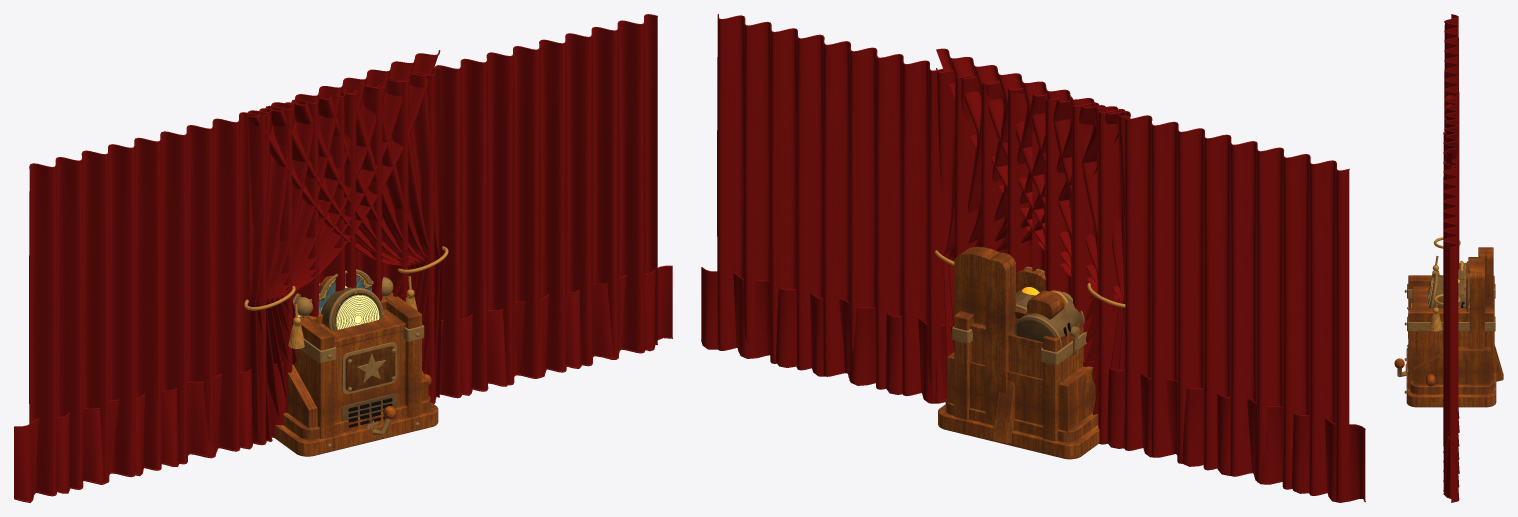
File: chapter5_approved_props.glb
3 views of the same model, side by side, from view 1: azimuth 30°, elevation 25°; view 2: azimuth 150°, elevation 25°; view 3: azimuth 270°, elevation 25° (orthographic). The views are drawn at different scales.
Visible parts, largest first — view 1: RightLeaf_velvet, LeftLeaf_velvet, Fabric_velvet (×3), Body_wood (×2), Body_brass, Body_darkwood, LampPanTilt_ivory, LampPanTilt_brass, LampPanTilt_bronze; view 2: LeftLeaf_velvet, RightLeaf_velvet, Fabric_velvet (×3), Body_wood (×4), LampPanTilt_bronze, Body_brass; view 3: Body_wood (×3), RightLeaf_velvet, LeftLeaf_velvet, Fabric_velvet (×2), Body_brass, LampPanTilt_bronze, Body_cord (×2), LampPanTilt_brass.
Part boxes in pixels (<box>): RightLeaf_velvet: <box>343,14,657,403</box>; LeftLeaf_velvet: <box>29,91,344,496</box>; Fabric_velvet (×3): <box>14,50,672,502</box>; Body_wood (×2): <box>275,292,438,456</box>; Body_brass: <box>300,324,424,447</box>; Body_darkwood: <box>345,346,395,391</box>; LampPanTilt_ivory: <box>336,295,379,329</box>; LampPanTilt_brass: <box>329,288,383,330</box>; LampPanTilt_bronze: <box>321,287,383,330</box>; LeftLeaf_velvet: <box>1032,92,1349,502</box>; RightLeaf_velvet: <box>717,14,1032,402</box>; Fabric_velvet (×3): <box>701,48,1365,502</box>; Body_wood (×4): <box>938,246,1099,459</box>; LampPanTilt_bronze: <box>1015,293,1082,342</box>; Body_brass: <box>952,326,1086,365</box>; Body_wood (×3): <box>1406,247,1503,407</box>; RightLeaf_velvet: <box>1443,131,1458,498</box>; LeftLeaf_velvet: <box>1444,14,1459,269</box>; Fabric_velvet (×2): <box>1443,95,1459,502</box>; Body_brass: <box>1404,284,1495,393</box>; LampPanTilt_bronze: <box>1428,274,1469,307</box>; Body_cord (×2): <box>1429,237,1460,331</box>; LampPanTilt_brass: <box>1428,273,1437,307</box>.
Size of the model in its own units: 1.68 by 0.8534 by 0.316.
71 materials, 71 textured.
